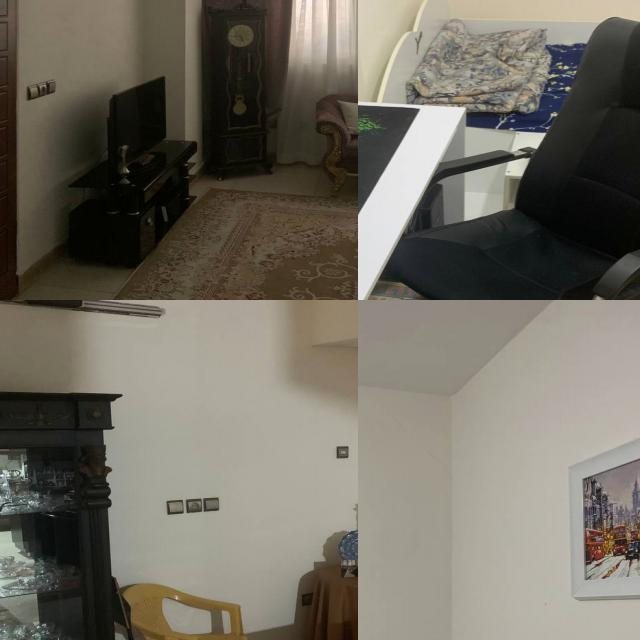Floor: (191, 144, 340, 197), (11, 246, 136, 300)
Wall: (0, 300, 358, 634), (459, 300, 640, 640), (13, 0, 200, 276), (358, 384, 452, 640)
